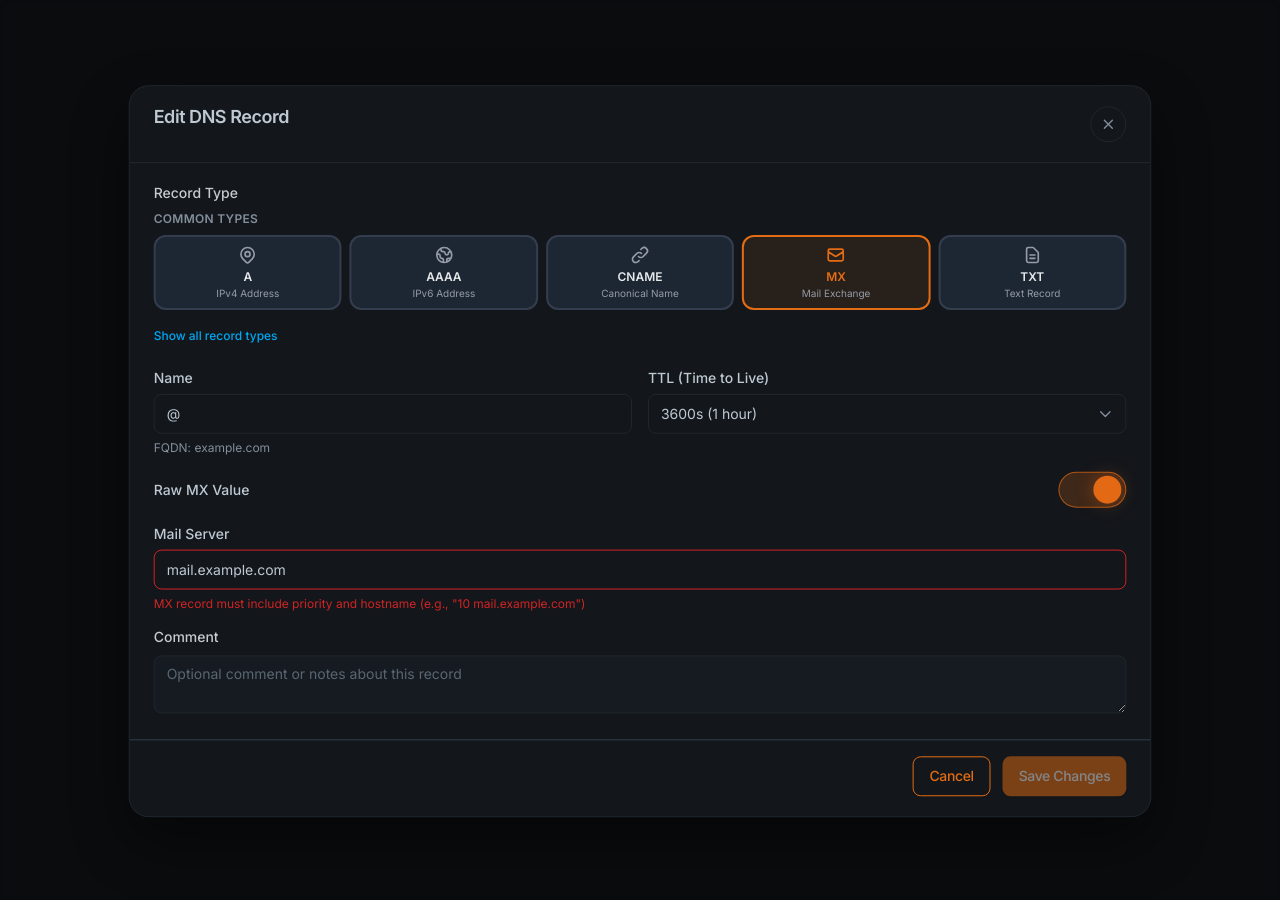
Scenario: ManageDNSRecordModal › falls back to raw mode in edit mode when structured value cannot be parsed and allows toggle to guided defaults
Check: the field showing "mail.example.com" is shown, box [154,549,1126,589]
Check: the text "Raw MX Value" is shown, box [154,479,250,499]
Click the button named "Value mode: Raw": (1092, 489) [1058,471,1126,507]
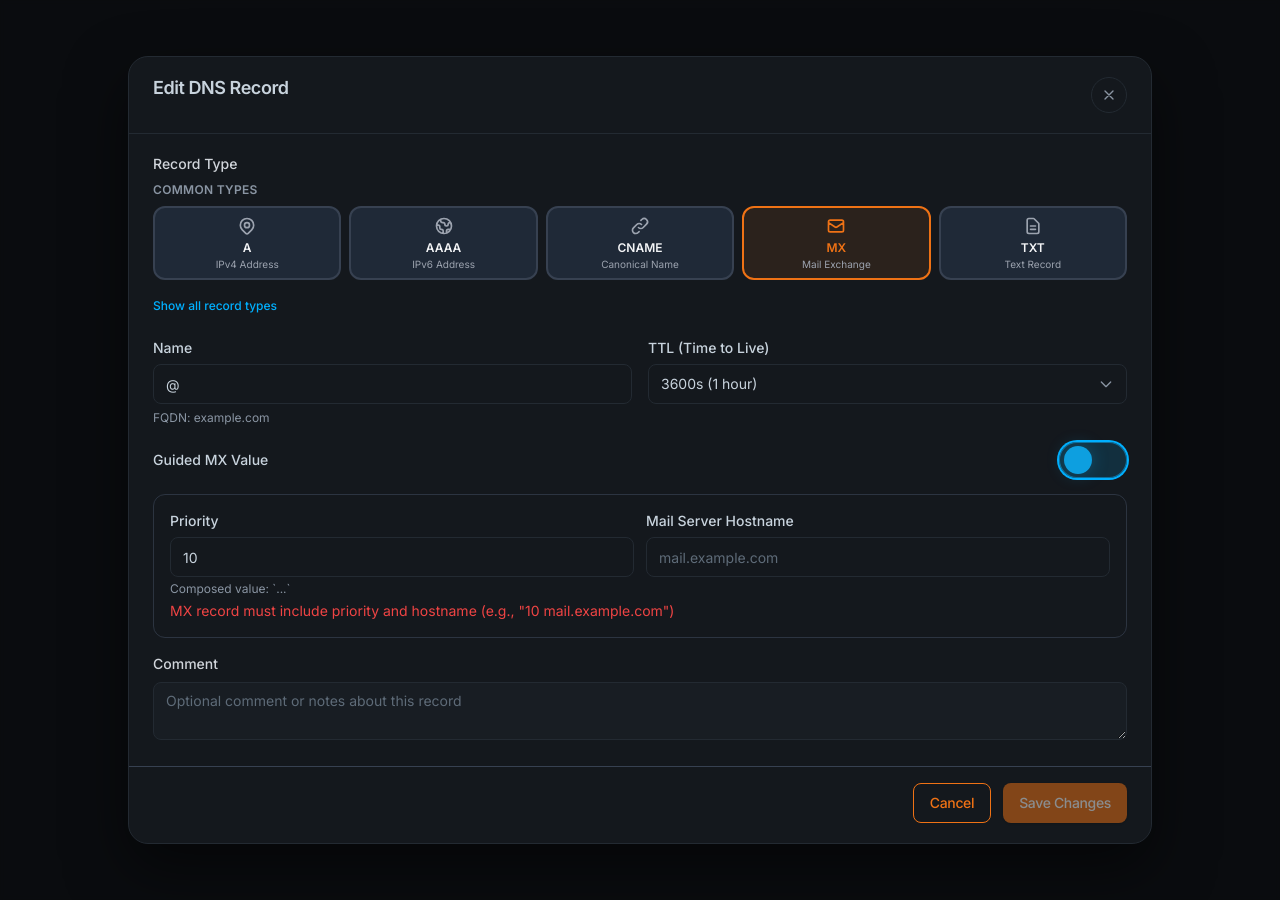
Check: the number field showing "10" is shown, box [170,537,634,577]
Check: the button named "Value mode: Guided" is shown, box [1059,442,1127,478]
Check: the text "Guided MX Value" is shown, box [153,450,268,470]
